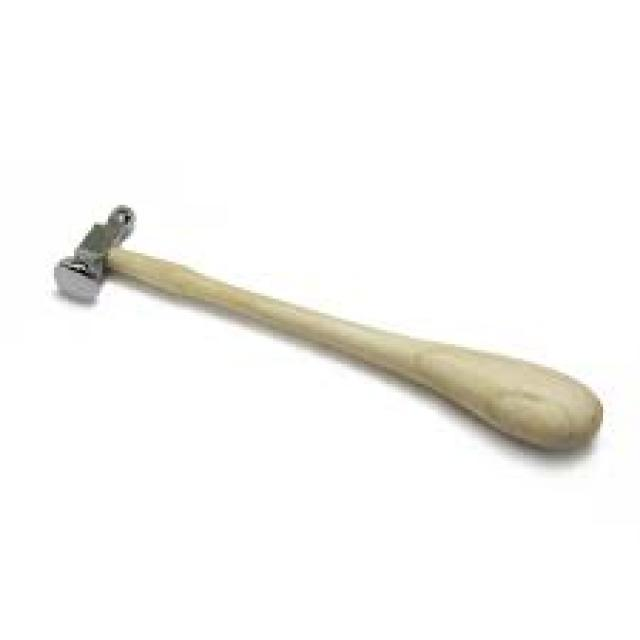hammer: (43, 197, 618, 457)
